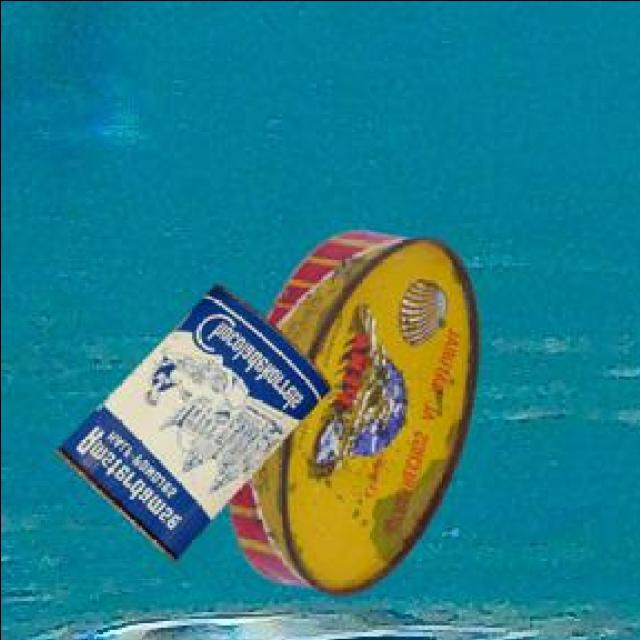logam: (226, 234, 474, 599), (52, 288, 326, 563)
